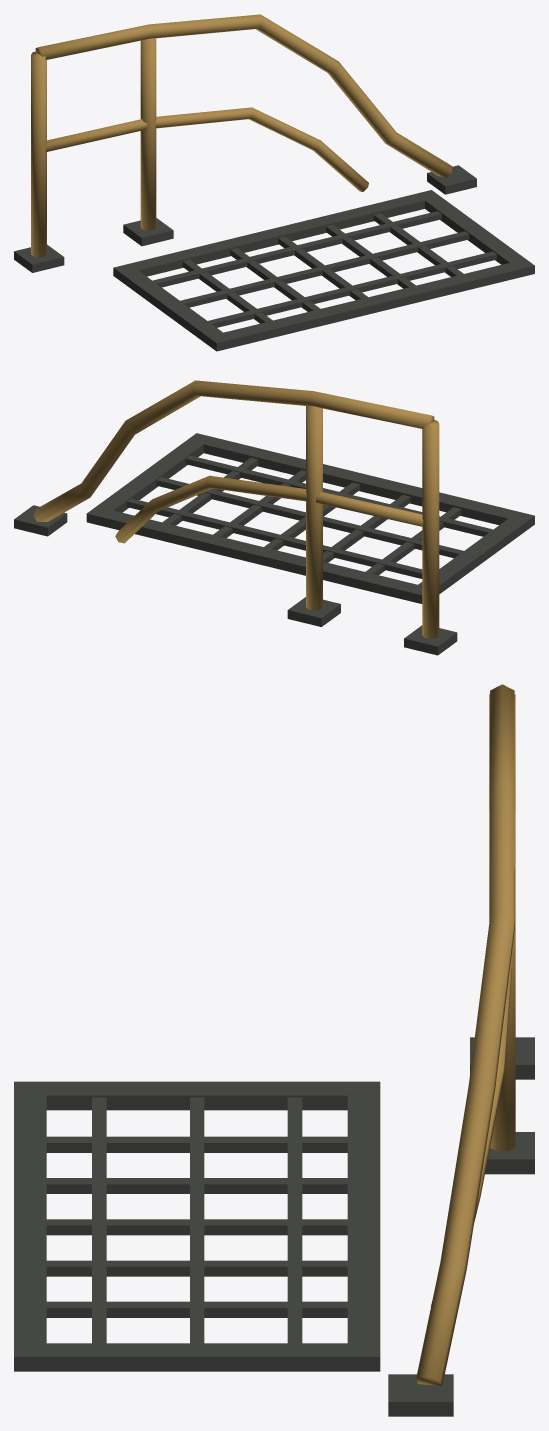
File: rail_bent.glb
The picture shows the model from 3 angles, top to bottom: view 1: azimuth 30°, elevation 25°; view 2: azimuth 150°, elevation 25°; view 3: azimuth 270°, elevation 25°; orthographic projection. The views are drawn at different scales.
Parts seen in each view (by area): view 1: rail_bent; view 2: rail_bent; view 3: rail_bent.
Boxes of the visible parts, x1=… form: rail_bent: x1=14, y1=14, x2=534, y2=351; rail_bent: x1=14, y1=380, x2=534, y2=655; rail_bent: x1=14, y1=684, x2=534, y2=1416.
Size of the model in its own units: 2.12 by 1.03 by 1.28.
